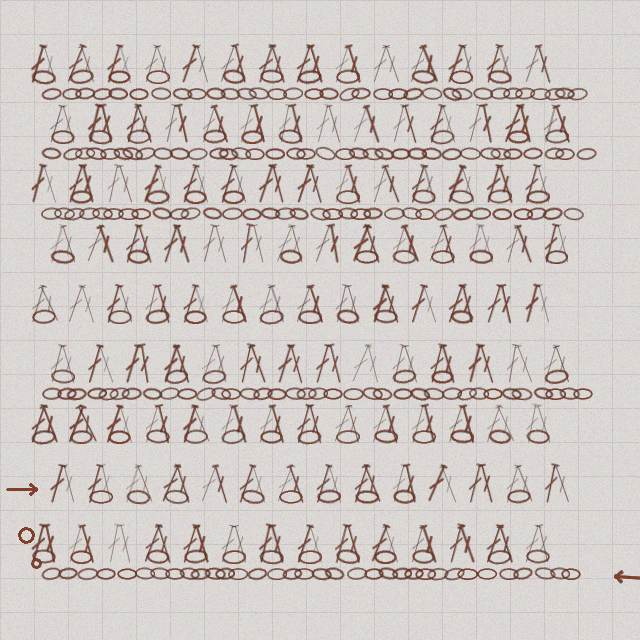chain: (240, 488, 266, 506), (335, 548, 361, 565), (69, 68, 94, 85), (278, 128, 303, 145), (145, 308, 170, 325), (164, 368, 189, 385), (392, 368, 417, 385), (544, 368, 569, 385), (221, 428, 246, 445), (338, 85, 361, 103), (222, 68, 246, 85), (336, 308, 360, 325), (488, 428, 512, 445), (31, 69, 56, 85), (297, 69, 322, 85), (411, 69, 436, 85), (487, 69, 512, 85), (88, 129, 113, 145), (430, 129, 455, 145), (145, 189, 170, 205), (449, 189, 474, 205), (50, 249, 75, 265), (392, 249, 417, 265), (259, 309, 284, 325), (202, 369, 227, 385), (31, 429, 56, 445), (297, 429, 322, 445), (126, 489, 151, 505), (164, 489, 189, 505), (259, 549, 284, 565), (487, 549, 512, 565), (441, 85, 463, 103), (195, 385, 217, 403), (121, 145, 144, 162), (134, 145, 157, 162), (314, 145, 337, 162), (450, 309, 474, 325), (63, 206, 86, 222), (309, 206, 332, 222), (443, 566, 466, 582), (260, 69, 284, 84), (336, 69, 360, 84), (127, 129, 151, 144), (203, 129, 227, 144), (545, 129, 569, 144), (412, 189, 436, 204), (488, 189, 512, 204), (279, 249, 303, 264), (469, 249, 493, 264), (32, 309, 56, 324), (374, 309, 398, 324), (51, 369, 75, 384), (146, 429, 170, 444), (184, 429, 208, 444), (374, 429, 398, 444), (450, 429, 474, 444), (526, 429, 550, 444), (317, 489, 341, 504), (507, 489, 531, 504), (32, 549, 56, 564), (146, 549, 170, 564), (184, 549, 208, 564), (526, 549, 550, 564), (402, 86, 424, 102), (62, 146, 84, 162), (112, 146, 134, 162), (373, 146, 395, 162), (288, 206, 310, 222), (433, 206, 455, 222), (409, 386, 431, 402), (456, 386, 478, 402), (127, 249, 150, 264), (393, 489, 416, 504), (412, 549, 435, 564), (146, 70, 170, 84), (51, 130, 75, 144), (336, 190, 360, 204), (526, 190, 550, 204), (355, 250, 379, 264), (431, 250, 455, 264), (108, 310, 132, 324), (222, 310, 246, 324), (298, 310, 322, 324), (336, 430, 360, 444), (412, 430, 436, 444), (89, 490, 113, 504), (279, 490, 303, 504), (355, 490, 379, 504), (222, 550, 246, 564), (298, 550, 322, 564), (248, 86, 270, 101), (85, 146, 107, 161), (230, 146, 252, 161), (151, 206, 173, 221), (210, 386, 232, 401), (252, 386, 274, 401), (377, 566, 399, 581), (512, 566, 534, 581), (534, 566, 556, 581), (108, 70, 131, 84), (450, 70, 473, 84), (241, 130, 264, 144), (507, 130, 530, 144), (70, 190, 93, 204), (184, 190, 207, 204), (222, 190, 245, 204), (545, 250, 568, 264), (184, 310, 207, 324), (431, 370, 454, 384), (70, 430, 93, 444), (108, 430, 131, 444), (260, 430, 283, 444), (70, 550, 93, 564), (374, 550, 397, 564), (348, 146, 369, 161), (180, 206, 201, 221), (202, 206, 223, 221), (401, 206, 422, 221), (526, 206, 547, 221), (542, 206, 563, 221), (109, 386, 130, 401), (159, 386, 180, 401), (362, 386, 383, 401), (533, 386, 554, 401), (41, 566, 62, 581), (179, 566, 200, 581), (324, 566, 345, 581), (451, 87, 473, 101), (544, 87, 566, 101), (362, 147, 384, 161), (423, 387, 445, 401), (511, 387, 533, 401), (77, 567, 99, 581), (427, 567, 449, 581), (41, 87, 62, 101), (92, 87, 113, 101), (172, 87, 193, 101), (220, 87, 241, 101), (236, 87, 257, 101), (567, 87, 588, 101), (187, 147, 208, 161), (218, 147, 239, 161), (441, 147, 462, 161), (490, 147, 511, 161), (576, 147, 597, 161), (169, 207, 190, 221), (452, 207, 473, 221), (563, 207, 584, 221), (66, 387, 87, 401), (98, 387, 119, 401), (142, 387, 163, 401), (239, 387, 260, 401), (372, 387, 393, 401), (501, 387, 522, 401), (190, 567, 211, 581), (247, 567, 268, 581), (282, 567, 303, 581), (311, 567, 332, 581), (204, 567, 226, 580), (554, 87, 575, 100), (41, 147, 62, 160), (169, 147, 190, 160), (421, 147, 442, 160), (460, 147, 481, 160), (480, 147, 501, 160), (544, 147, 565, 160), (41, 207, 62, 220), (54, 207, 75, 220), (79, 207, 100, 220), (92, 207, 113, 220), (222, 207, 243, 220), (260, 207, 281, 220), (275, 207, 296, 220), (384, 207, 405, 220), (470, 207, 491, 220), (121, 387, 142, 400), (285, 387, 306, 400), (296, 387, 317, 400), (559, 387, 580, 400), (75, 87, 95, 100), (108, 87, 128, 100), (151, 87, 171, 100), (206, 87, 226, 100), (283, 87, 303, 100), (319, 87, 339, 100), (351, 87, 371, 100), (422, 87, 442, 100), (473, 87, 493, 100), (490, 87, 510, 100), (503, 87, 523, 100), (515, 87, 535, 100), (75, 147, 95, 160), (153, 147, 173, 160), (209, 147, 229, 160), (286, 147, 306, 160), (407, 147, 427, 160), (523, 147, 543, 160), (338, 207, 358, 220), (363, 207, 383, 220), (42, 387, 62, 400), (57, 387, 77, 400), (87, 387, 107, 400), (308, 387, 328, 400), (442, 387, 462, 400), (469, 387, 489, 400), (58, 567, 78, 580), (135, 567, 155, 580), (150, 567, 170, 580), (215, 567, 235, 580), (347, 567, 367, 580), (392, 567, 412, 580), (404, 567, 424, 580), (550, 567, 570, 580), (530, 88, 551, 100), (103, 208, 124, 220), (118, 208, 139, 220), (322, 208, 343, 220), (350, 208, 371, 220), (343, 388, 364, 400), (545, 388, 566, 400), (415, 568, 436, 580), (457, 568, 478, 580), (62, 88, 82, 100), (129, 88, 149, 100), (187, 88, 207, 100), (267, 88, 287, 100), (304, 88, 324, 100), (373, 88, 393, 100), (388, 88, 408, 100), (100, 148, 120, 160), (245, 148, 265, 160), (265, 148, 285, 160), (296, 148, 316, 160), (335, 148, 355, 160), (391, 148, 411, 160), (503, 148, 523, 160), (555, 148, 575, 160), (131, 208, 151, 220), (242, 208, 262, 220), (415, 208, 435, 220), (492, 208, 512, 220), (513, 208, 533, 220), (177, 388, 197, 400), (221, 388, 241, 400), (267, 388, 287, 400), (323, 388, 343, 400), (393, 388, 413, 400), (483, 388, 503, 400), (573, 388, 593, 400), (96, 568, 116, 580), (117, 568, 137, 580), (165, 568, 185, 580), (228, 568, 248, 580), (267, 568, 287, 580), (294, 568, 314, 580), (364, 568, 384, 580), (477, 568, 497, 580), (499, 568, 519, 580), (561, 568, 581, 580)
double: (35, 283, 64, 324), (73, 403, 102, 444), (492, 403, 520, 444), (499, 103, 526, 145), (62, 43, 89, 84), (271, 223, 298, 264), (347, 343, 374, 384), (188, 403, 215, 444), (157, 463, 184, 504), (359, 463, 386, 504), (423, 463, 450, 504), (366, 523, 393, 564), (253, 43, 279, 85), (379, 43, 405, 85), (379, 163, 405, 205), (443, 163, 469, 205), (512, 343, 538, 385), (37, 403, 63, 445), (63, 403, 89, 445), (436, 463, 462, 505), (417, 43, 443, 84), (82, 223, 108, 264), (348, 223, 374, 264), (398, 223, 424, 264), (424, 223, 450, 264), (329, 403, 355, 444), (132, 463, 158, 504), (196, 463, 222, 504), (272, 463, 298, 504), (512, 463, 538, 504), (139, 523, 165, 564), (75, 43, 100, 85), (151, 43, 176, 85), (177, 43, 202, 85), (215, 43, 240, 85), (291, 43, 316, 85), (405, 43, 430, 85), (443, 43, 468, 85), (493, 43, 518, 85), (132, 103, 157, 145), (208, 103, 233, 145), (348, 103, 373, 145), (360, 103, 385, 145), (550, 103, 575, 145), (139, 163, 164, 205), (94, 223, 119, 265), (310, 223, 335, 265), (360, 223, 385, 265), (512, 223, 537, 265), (63, 283, 88, 325), (189, 283, 214, 325), (227, 283, 252, 325), (265, 283, 290, 325), (291, 283, 316, 325), (379, 283, 404, 325), (443, 283, 468, 325), (94, 343, 119, 385), (170, 343, 195, 385), (196, 343, 221, 385), (246, 343, 271, 385), (550, 343, 575, 385), (101, 403, 126, 445), (367, 403, 392, 445), (443, 403, 468, 445), (481, 403, 506, 445), (120, 463, 145, 505), (234, 463, 259, 505), (284, 463, 309, 505), (550, 463, 575, 505), (379, 523, 404, 565), (417, 523, 442, 565), (455, 523, 480, 565), (481, 523, 506, 565), (38, 43, 62, 85), (102, 43, 126, 85), (190, 43, 214, 85), (266, 43, 290, 85), (304, 43, 328, 85), (330, 43, 354, 85), (342, 43, 366, 85), (368, 43, 392, 85), (520, 43, 544, 85), (532, 43, 556, 85), (197, 103, 221, 145), (437, 103, 461, 145), (38, 163, 62, 205), (64, 163, 88, 205), (114, 163, 138, 205), (178, 163, 202, 205), (190, 163, 214, 205), (228, 163, 252, 205), (254, 163, 278, 205), (292, 163, 316, 205), (330, 163, 354, 205), (342, 163, 366, 205), (368, 163, 392, 205), (406, 163, 430, 205), (456, 163, 480, 205), (494, 163, 518, 205), (45, 223, 69, 265), (57, 223, 81, 265), (133, 223, 157, 265), (159, 223, 183, 265), (171, 223, 195, 265), (387, 223, 411, 265), (475, 223, 499, 265), (26, 283, 50, 325), (76, 283, 100, 325), (114, 283, 138, 325), (178, 283, 202, 325), (216, 283, 240, 325), (304, 283, 328, 325), (368, 283, 392, 325), (406, 283, 430, 325), (418, 283, 442, 325), (482, 283, 506, 325), (159, 343, 183, 385), (273, 343, 297, 385), (399, 343, 423, 385), (475, 343, 499, 385), (26, 403, 50, 445), (114, 403, 138, 445), (140, 403, 164, 445), (228, 403, 252, 445), (254, 403, 278, 445), (532, 403, 556, 445), (45, 463, 69, 505), (171, 463, 195, 505), (209, 463, 233, 505), (247, 463, 271, 505), (311, 463, 335, 505), (323, 463, 347, 505), (349, 463, 373, 505), (152, 523, 176, 565), (178, 523, 202, 565), (190, 523, 214, 565), (228, 523, 252, 565), (292, 523, 316, 565), (304, 523, 328, 565), (494, 523, 518, 565), (520, 523, 544, 565), (26, 43, 49, 85), (114, 43, 137, 85), (140, 43, 163, 85), (482, 43, 505, 85), (45, 103, 68, 145), (57, 103, 80, 145), (235, 103, 258, 145), (323, 103, 346, 145), (399, 103, 422, 145), (425, 103, 448, 145), (539, 103, 562, 145), (152, 163, 175, 205), (216, 163, 239, 205), (304, 163, 327, 205), (418, 163, 441, 205), (482, 163, 505, 205), (520, 163, 543, 205), (532, 163, 555, 205), (121, 223, 144, 265), (285, 223, 308, 265), (437, 223, 460, 265), (501, 223, 524, 265), (102, 283, 125, 325), (152, 283, 175, 325), (254, 283, 277, 325), (342, 283, 365, 325), (57, 343, 80, 385), (83, 343, 106, 385), (121, 343, 144, 385), (285, 343, 308, 385), (311, 343, 334, 385), (437, 343, 460, 385), (539, 343, 562, 385), (152, 403, 175, 445), (178, 403, 201, 445), (216, 403, 239, 445), (266, 403, 289, 445), (292, 403, 315, 445), (304, 403, 327, 445), (342, 403, 365, 445), (380, 403, 403, 445), (83, 463, 106, 505), (501, 463, 524, 505), (64, 523, 87, 565), (76, 523, 99, 565), (216, 523, 239, 565), (266, 523, 289, 565), (330, 523, 353, 565), (342, 523, 365, 565), (406, 523, 429, 565), (210, 223, 232, 265), (495, 283, 517, 325), (407, 403, 429, 445), (457, 403, 479, 445), (445, 522, 467, 564), (229, 43, 251, 84), (457, 43, 479, 84), (122, 103, 144, 144), (248, 103, 270, 144), (286, 103, 308, 144), (312, 103, 334, 144), (388, 103, 410, 144), (464, 103, 486, 144), (514, 103, 536, 144), (27, 163, 49, 204), (77, 163, 99, 204), (267, 163, 289, 204), (198, 223, 220, 264), (464, 223, 486, 264), (540, 223, 562, 264), (552, 223, 574, 264), (521, 283, 543, 324), (533, 283, 555, 324), (46, 343, 68, 384), (210, 343, 232, 384), (324, 343, 346, 384), (362, 343, 384, 384), (426, 343, 448, 384), (464, 343, 486, 384), (58, 463, 80, 504), (388, 463, 410, 504), (464, 463, 486, 504), (476, 463, 498, 504), (27, 523, 49, 564), (84, 103, 105, 144), (96, 103, 117, 144), (172, 103, 193, 144), (103, 163, 124, 204), (248, 223, 269, 264), (141, 283, 162, 324), (331, 283, 352, 324), (457, 283, 478, 324), (236, 343, 257, 384), (388, 343, 409, 384), (419, 403, 440, 444), (96, 463, 117, 504), (400, 463, 421, 504), (115, 523, 136, 564), (255, 523, 276, 564), (533, 523, 554, 564), (161, 103, 181, 144), (275, 103, 295, 144), (477, 103, 497, 144), (522, 403, 542, 444), (541, 463, 561, 504), (40, 523, 60, 564), (104, 523, 124, 564), (237, 223, 256, 264), (325, 223, 344, 264), (135, 343, 154, 384), (503, 343, 522, 384)
noise: (611, 569, 640, 586), (5, 482, 40, 496), (15, 524, 37, 546), (30, 557, 42, 569)
